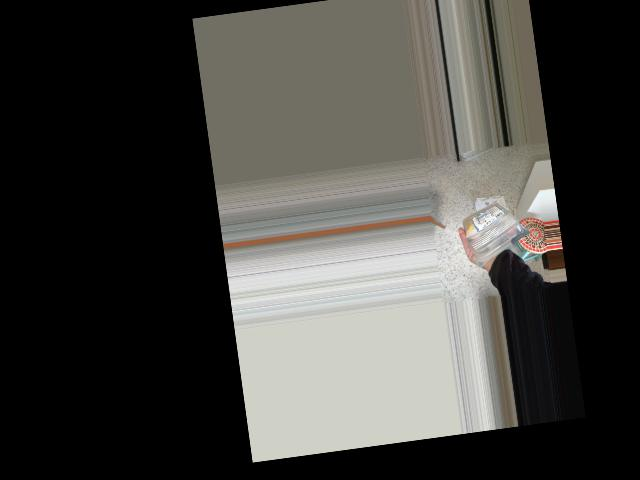cheese: (460, 186, 536, 268)
